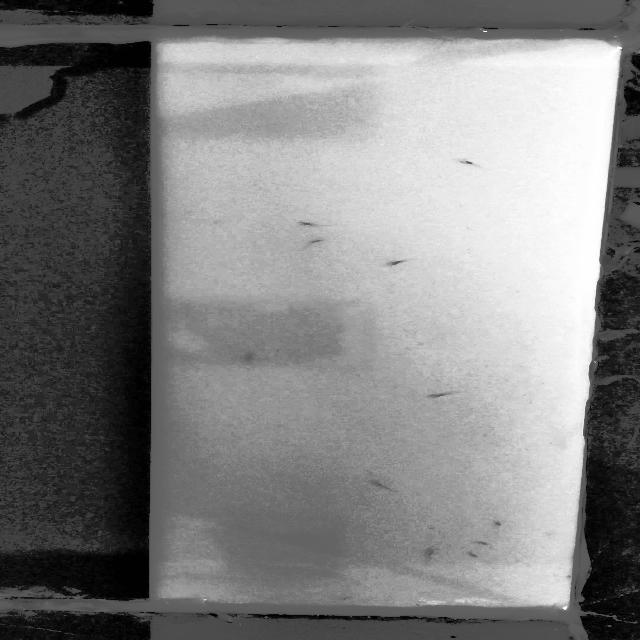shrimp: (363, 478, 414, 498), (417, 386, 466, 404), (451, 151, 492, 171), (295, 218, 338, 232), (334, 589, 366, 605), (482, 516, 518, 529), (384, 256, 418, 268), (304, 235, 342, 245), (462, 550, 490, 562), (417, 548, 449, 558), (240, 352, 263, 363), (472, 540, 500, 549)
